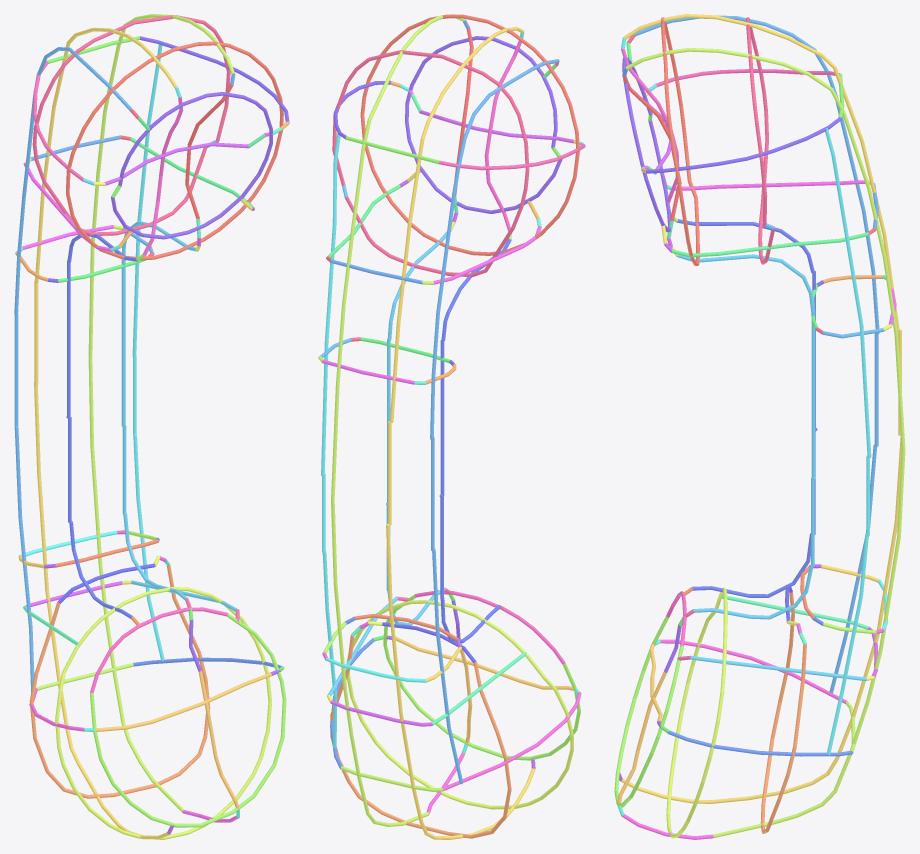
Rendered from flowrep_phone.gltf.
3 views of the same model, side by side, from view 1: azimuth 30°, elevation 25°; view 2: azimuth 150°, elevation 25°; view 3: azimuth 270°, elevation 25° (orthographic).
Size of the model in its own units: 0.2674 by 0.92 by 0.3042.
